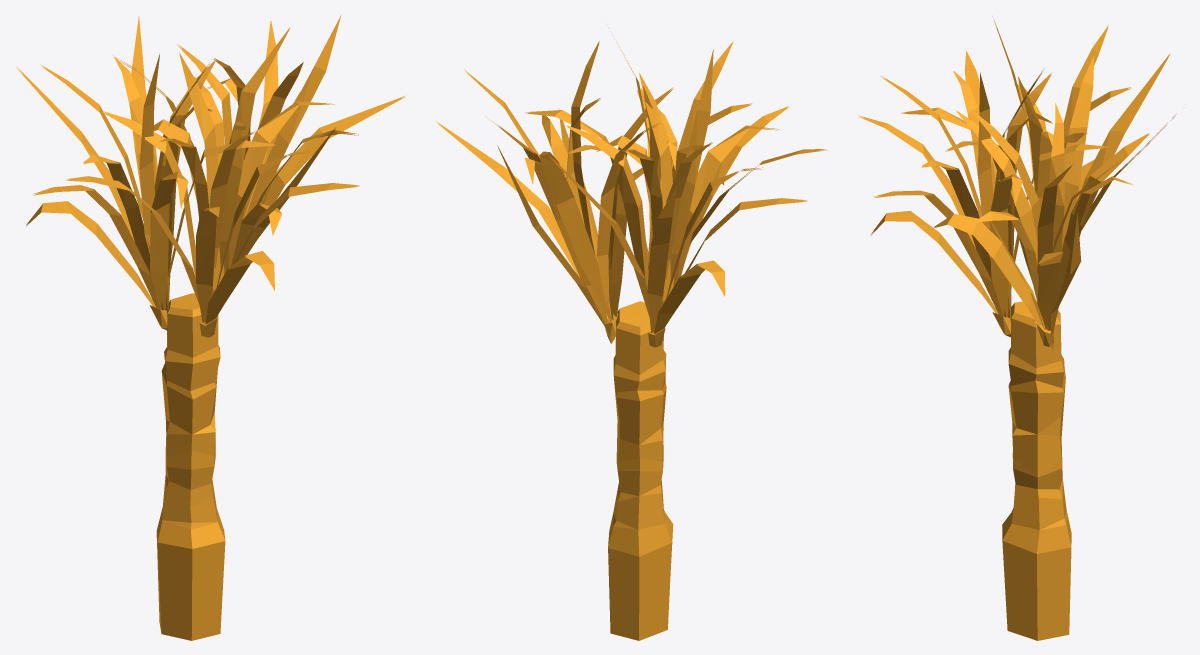
File: SM_Tree_Yucca_C.fbx
3 renders of one model, left to right at view 1: azimuth 30°, elevation 25°; view 2: azimuth 150°, elevation 25°; view 3: azimuth 270°, elevation 25°, orthographic. The views are drawn at different scales.
Visible parts, largest first — view 1: SM_Tree_Yucca_C; view 2: SM_Tree_Yucca_C; view 3: SM_Tree_Yucca_C.
Part boxes in pixels (box(x1,y1,x2,y2)): SM_Tree_Yucca_C: box(16, 15, 405, 640); SM_Tree_Yucca_C: box(436, 27, 827, 640); SM_Tree_Yucca_C: box(858, 16, 1175, 640).
Bounding box in the file's own units: 1.32 × 2 × 1.01.
